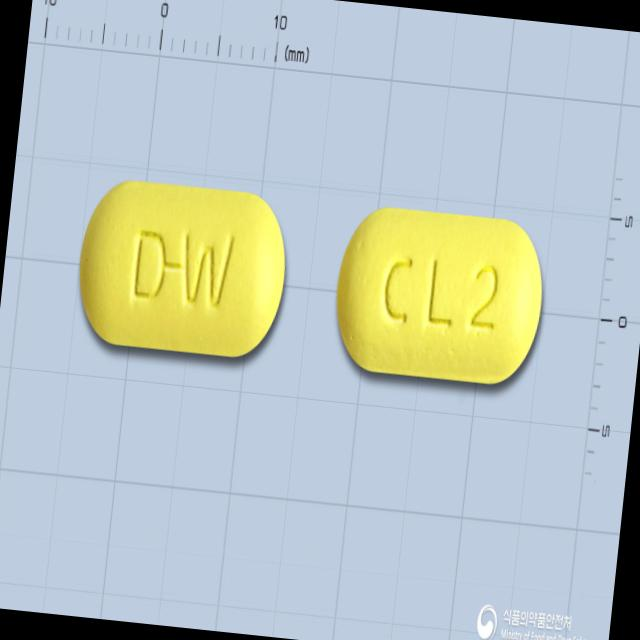Clearmycin - 250mg: (71, 173, 294, 362), (328, 200, 550, 388)
